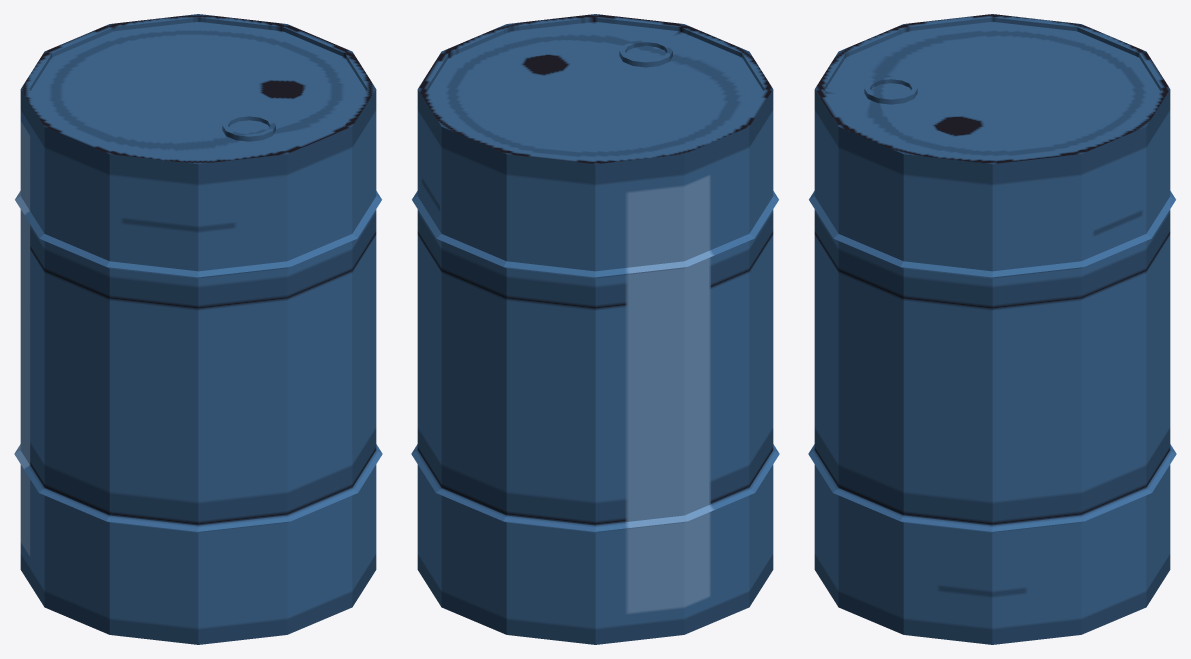
Rendered from prop_barrels_blue.glb.
The picture shows the model from 3 angles, left to right: view 1: azimuth 30°, elevation 25°; view 2: azimuth 150°, elevation 25°; view 3: azimuth 270°, elevation 25°; orthographic projection.
Visible parts, largest first — view 1: prop_barrels_blue_mesh; view 2: prop_barrels_blue_mesh; view 3: prop_barrels_blue_mesh.
Boxes of the visible parts, x1,y1,x2,y2 form: prop_barrels_blue_mesh: [14, 14, 382, 644]; prop_barrels_blue_mesh: [411, 14, 779, 644]; prop_barrels_blue_mesh: [808, 14, 1176, 644].
Bounding box in the file's own units: 0.6243 × 0.9 × 0.6243.
1 material, 1 textured.
